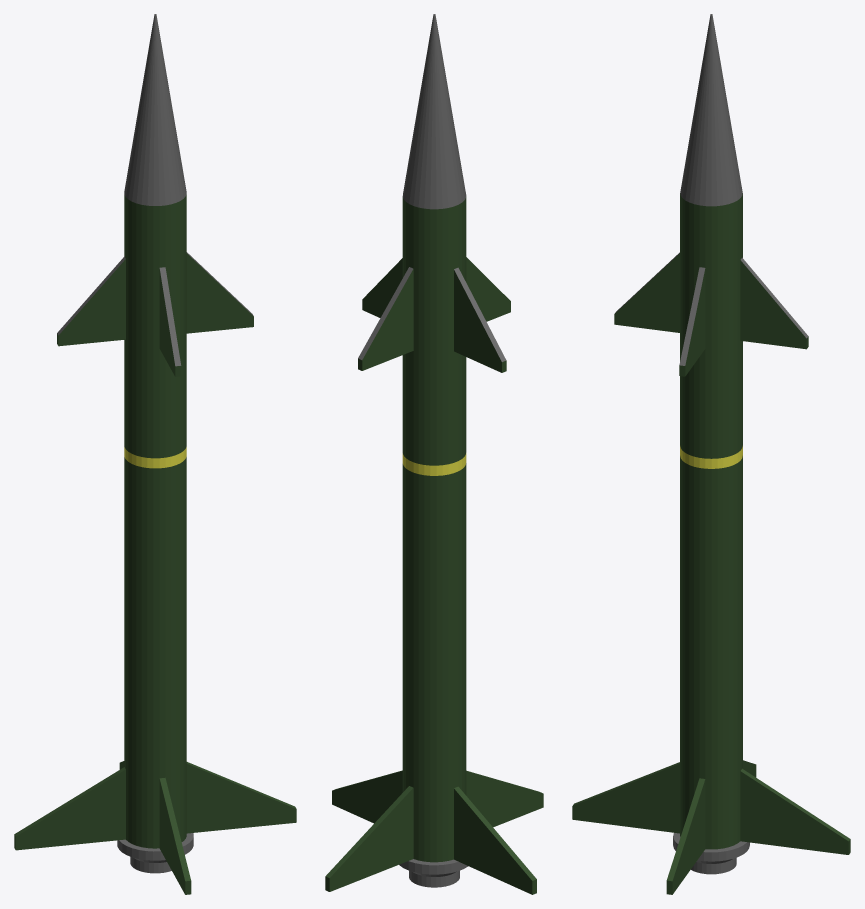
The model's file is missile.fbx.
The picture shows the model from 3 angles, left to right: view 1: azimuth 30°, elevation 25°; view 2: azimuth 150°, elevation 25°; view 3: azimuth 270°, elevation 25°; orthographic projection.
Parts seen in each view (by area): view 1: missile; view 2: missile; view 3: missile.
Boxes of the visible parts, <box> form: missile: <box>14,14,296,894</box>; missile: <box>325,14,543,894</box>; missile: <box>572,14,850,894</box>.
Size of the model in its own units: 444 by 1495 by 444.
